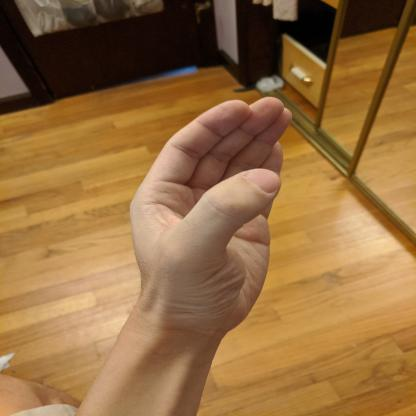C: (122, 92, 302, 344)
